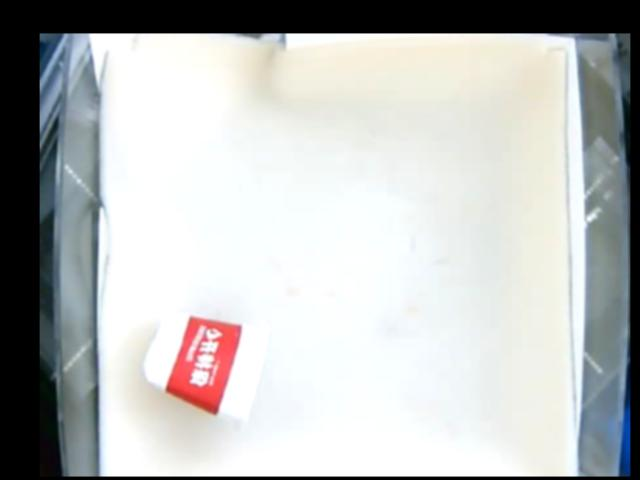Cup: (145, 314, 267, 422)
